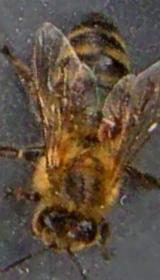varroa_mite: (96, 110, 125, 147)
